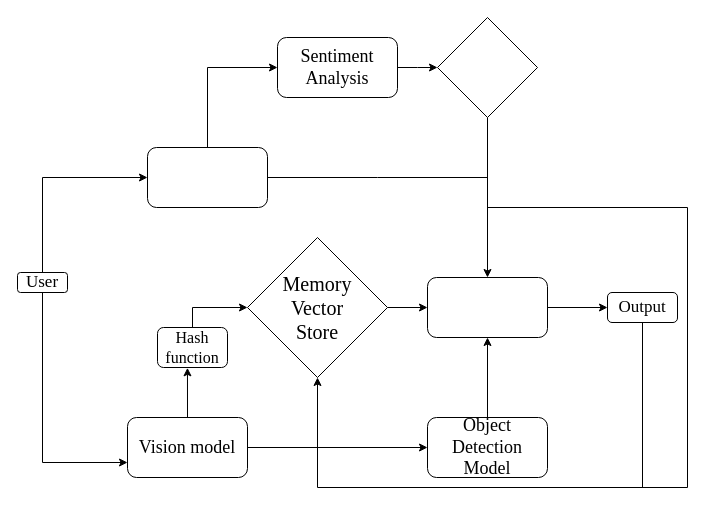
Some shapes in this 706 by 513 pixel diagram are drawn without their labels. Here are the shapes that lost their labels. From the top down, the centre of each, then its label:
point 487,67: Emotion config
point 207,177: Speech to Text Model
point 487,307: Large Language Model
